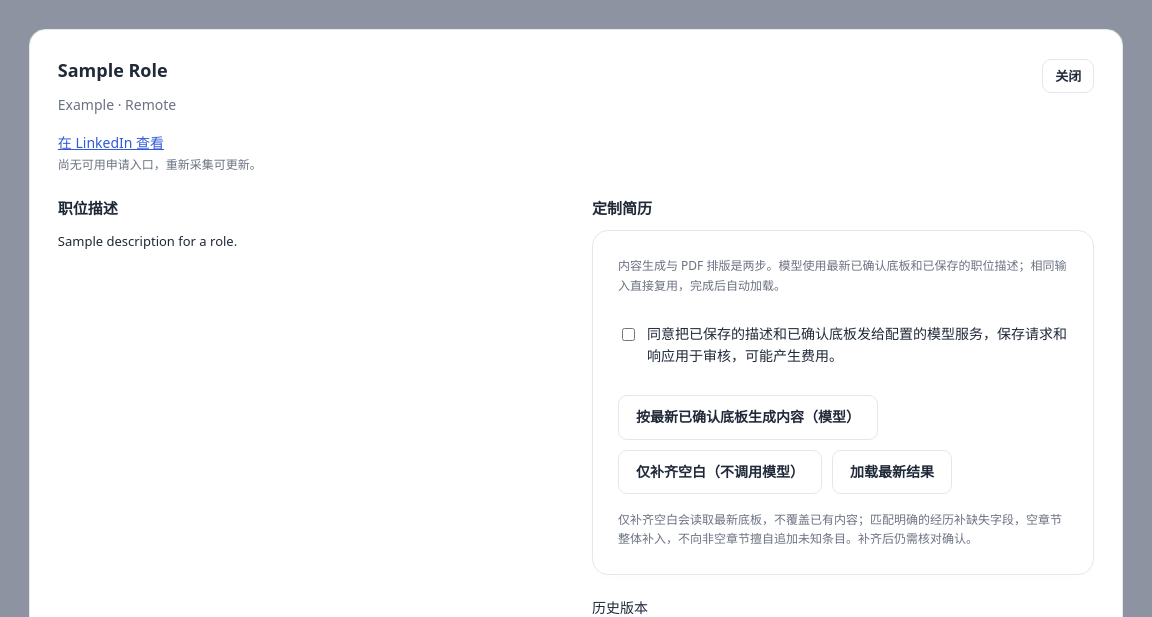
Test: job editor and PDF templates › retries loading the exact completed task version after a refresh failure instead of guessing the newest history entry
Click the checkbox labelled "同意把已保存的描述和已确认底板发给配置的模型服务，保存请求和响应用于审核，可能产生费用。": (628,334) 622,328 -> 635,341
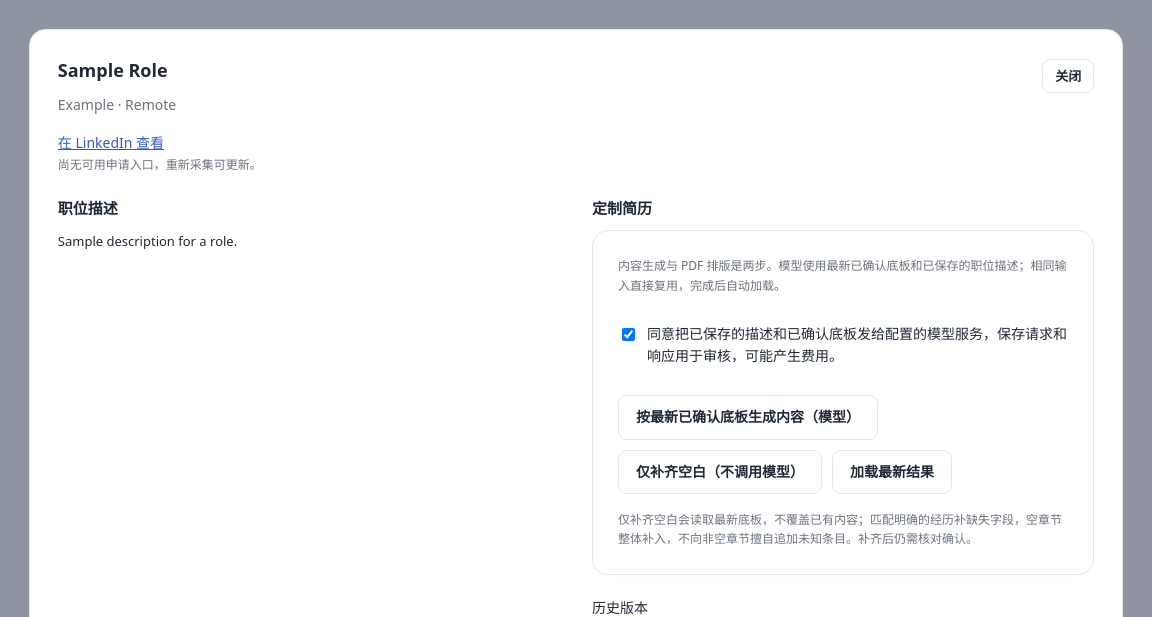
Click the button "按最新已确认底板生成内容（模型）": (748,418) 618,396 -> 878,440
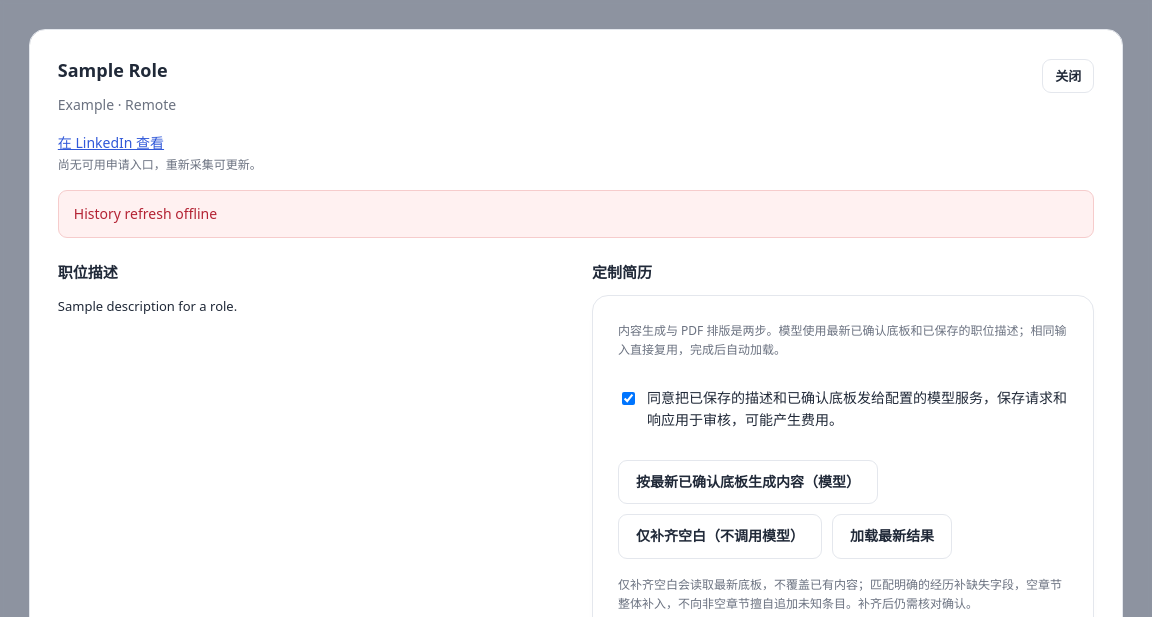
Expected: the message "History refresh offline" is shown, 58,190 -> 1094,238
Click the button "加载最新结果": (892,536) 832,514 -> 952,559
(page scrolled)
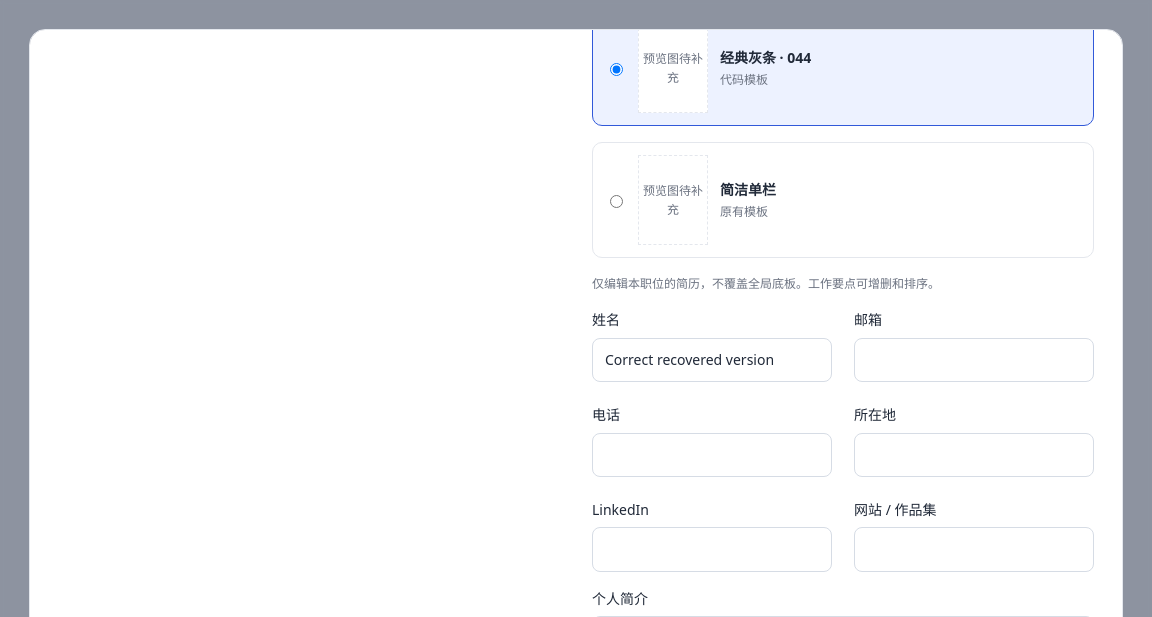
Expected: the field labelled "姓名" holds "Correct recovered version", 592,338 -> 832,382
